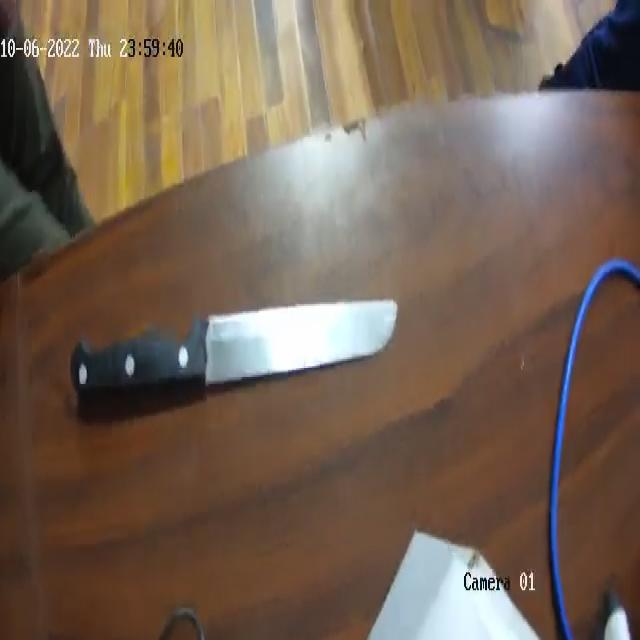weapon: (67, 286, 398, 400)
